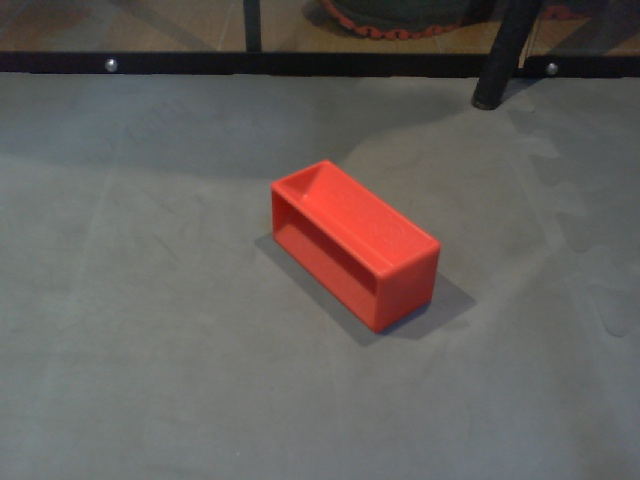RedSample: (264, 156, 444, 339)
